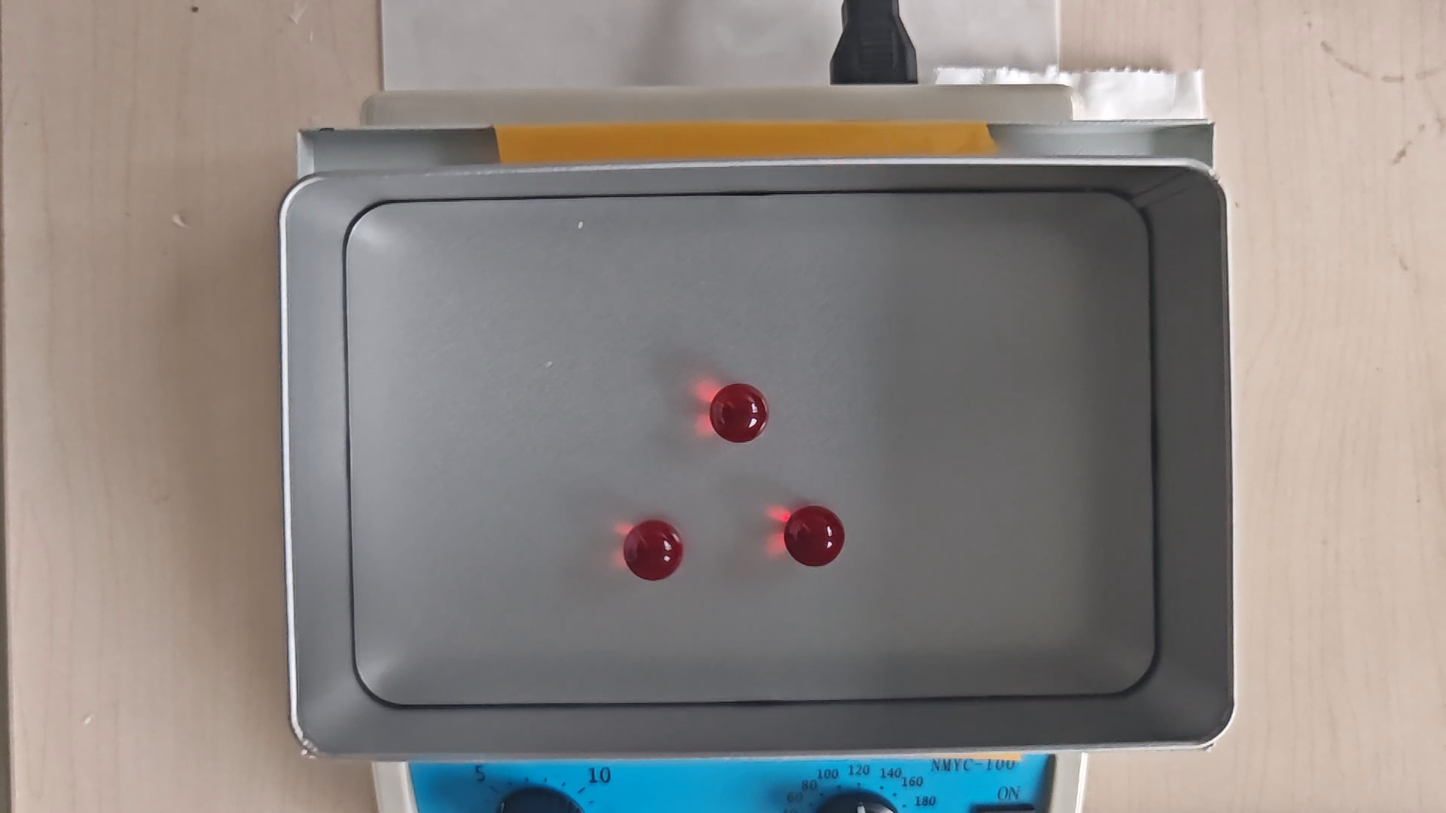ball: (623, 517, 684, 584), (784, 504, 845, 568), (712, 383, 769, 444)
container: (348, 192, 1154, 703)
